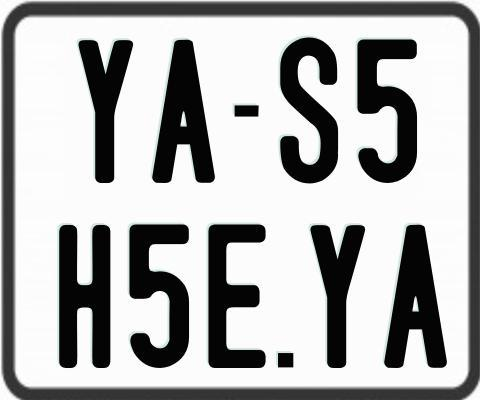5: (129, 222, 194, 372), (354, 38, 420, 185)
A: (382, 223, 451, 369), (152, 39, 215, 188)
E: (206, 222, 267, 370)
H: (56, 224, 113, 370)
S: (280, 37, 341, 183)
Y: (77, 39, 138, 188), (309, 222, 367, 370)
